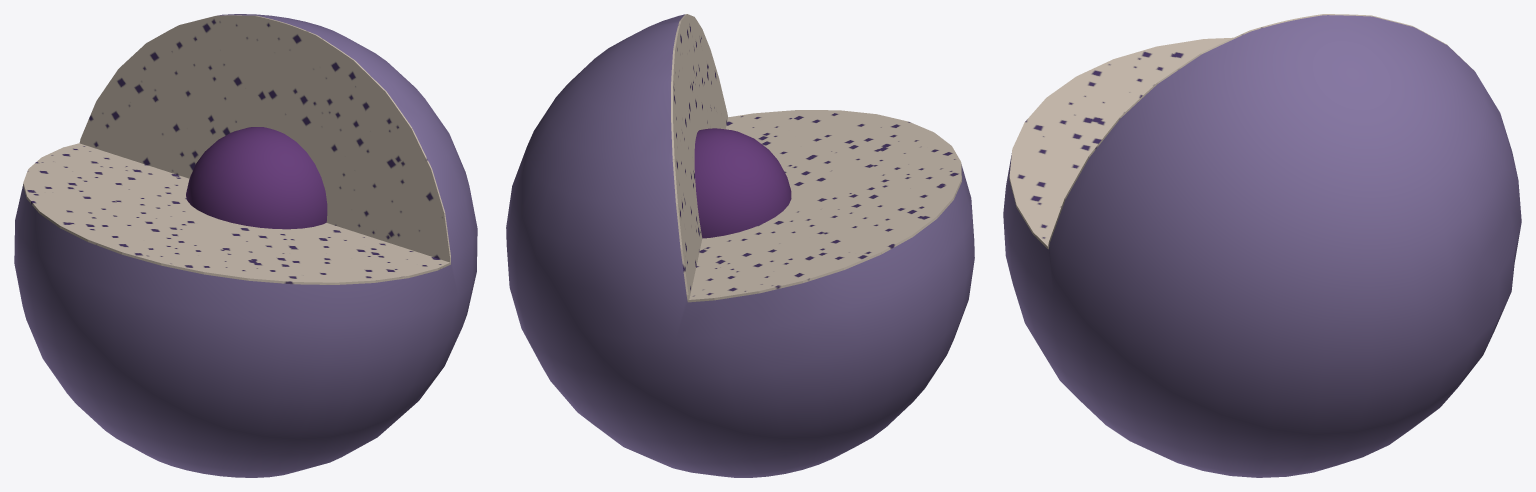
The model's file is nucleo.glb.
3 renders of one model, left to right at view 1: azimuth 30°, elevation 25°; view 2: azimuth 150°, elevation 25°; view 3: azimuth 270°, elevation 25°, orthographic. The views are drawn at different scales.
Parts seen in each view (by area): view 1: nucleo, nucleolo; view 2: nucleo, nucleolo; view 3: nucleo.
Part boxes in pixels (x1,y1,x2,y2): nucleo: (14,14,477,477); nucleolo: (186,127,327,229); nucleo: (506,14,974,477); nucleolo: (694,128,791,238); nucleo: (1003,14,1521,477).
Size of the model in its own units: 0.7134 by 0.6995 by 0.713.
3 materials, 1 textured.
